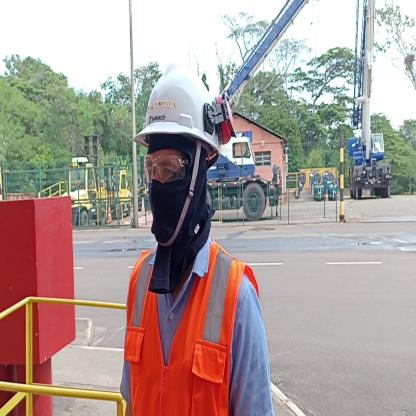Balaclava: (144, 143, 210, 245)
Capacete: (140, 62, 224, 142)
colete: (136, 258, 236, 416)
